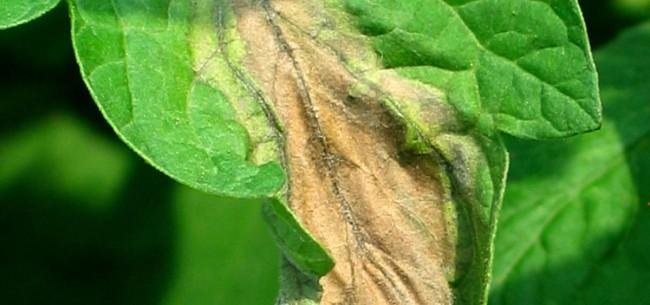Tomato leaf mosaic virus: (65, 4, 630, 302)
